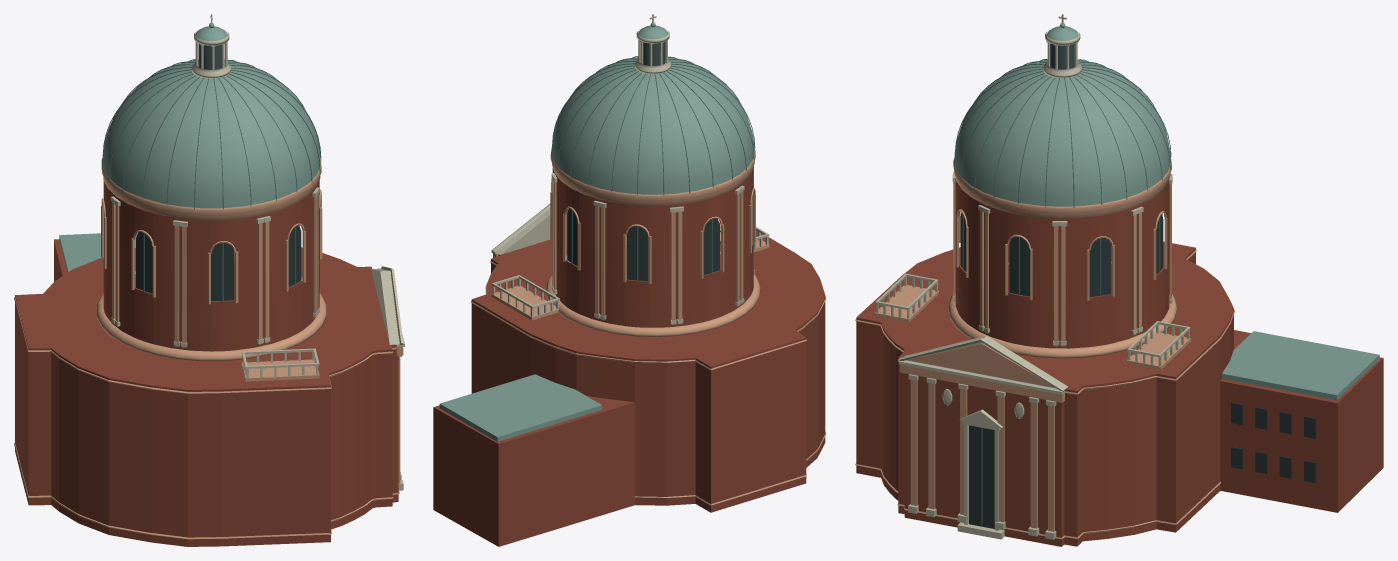
The model's file is dome-de-la-grave-far.glb.
The picture shows the model from 3 angles, left to right: view 1: azimuth 30°, elevation 25°; view 2: azimuth 150°, elevation 25°; view 3: azimuth 270°, elevation 25°; orthographic projection. The views are drawn at different scales.
Visible parts, largest first — view 1: dome-de-la-grave-0-brick, dome-de-la-grave-0-copper, dome-de-la-grave-0-trim, dome-de-la-grave-0-stone, dome-de-la-grave-0-seam, dome-de-la-grave-0-glass, dome-de-la-grave-0-light; view 2: dome-de-la-grave-0-brick, dome-de-la-grave-0-copper, dome-de-la-grave-0-trim, dome-de-la-grave-0-stone, dome-de-la-grave-0-seam, dome-de-la-grave-0-glass; view 3: dome-de-la-grave-0-brick, dome-de-la-grave-0-copper, dome-de-la-grave-0-trim, dome-de-la-grave-0-stone, dome-de-la-grave-0-glass, dome-de-la-grave-0-seam.
Part boxes in pixels (box(x1,y1,x2,y2)): dome-de-la-grave-0-brick: box(15, 180, 398, 546); dome-de-la-grave-0-copper: box(59, 23, 320, 272); dome-de-la-grave-0-trim: box(14, 158, 403, 539); dome-de-la-grave-0-stone: box(110, 14, 404, 490); dome-de-la-grave-0-seam: box(102, 59, 321, 301); dome-de-la-grave-0-glass: box(136, 225, 301, 300); dome-de-la-grave-0-light: box(198, 43, 221, 69); dome-de-la-grave-0-brick: box(433, 168, 825, 546); dome-de-la-grave-0-copper: box(439, 22, 754, 441); dome-de-la-grave-0-trim: box(471, 147, 826, 505); dome-de-la-grave-0-stone: box(491, 14, 769, 324); dome-de-la-grave-0-seam: box(551, 56, 755, 280); dome-de-la-grave-0-glass: box(567, 195, 751, 280); dome-de-la-grave-0-brick: box(856, 179, 1383, 546); dome-de-la-grave-0-copper: box(954, 23, 1379, 400); dome-de-la-grave-0-trim: box(855, 157, 1234, 539); dome-de-la-grave-0-stone: box(875, 14, 1190, 539); dome-de-la-grave-0-glass: box(960, 212, 1316, 528); dome-de-la-grave-0-seam: box(954, 59, 1171, 524).
Size of the model in its own units: 44.89 by 56 by 59.43.
